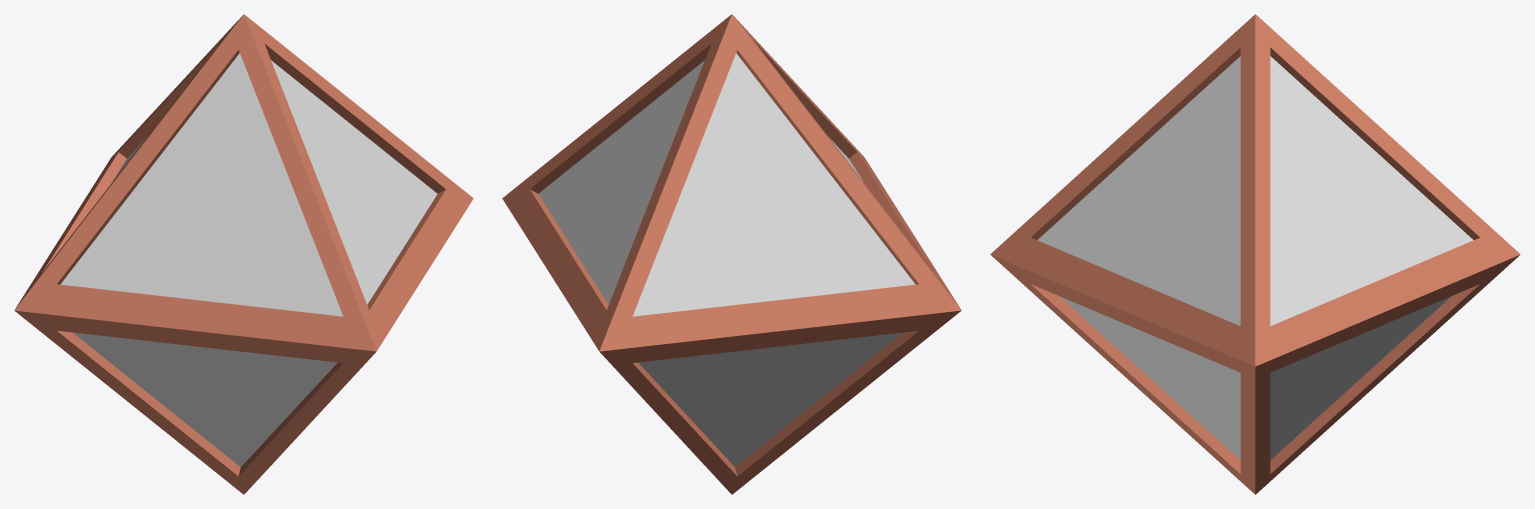
The model's file is double_pyramid.fbx.
3 renders of one model, left to right at view 1: azimuth 30°, elevation 25°; view 2: azimuth 150°, elevation 25°; view 3: azimuth 270°, elevation 25°, orthographic.
Visible parts, largest first — view 1: top1, bottom; view 2: top1, bottom; view 3: top1, bottom.
Part boxes in pixels (<box>): top1: <box>14,14,473,351</box>; bottom: <box>15,310,375,494</box>; top1: <box>502,14,961,351</box>; bottom: <box>600,310,960,494</box>; top1: <box>990,14,1520,366</box>; bottom: <box>991,255,1519,494</box>.
Bounding box in the file's own units: 49.56 × 49.56 × 49.56.
